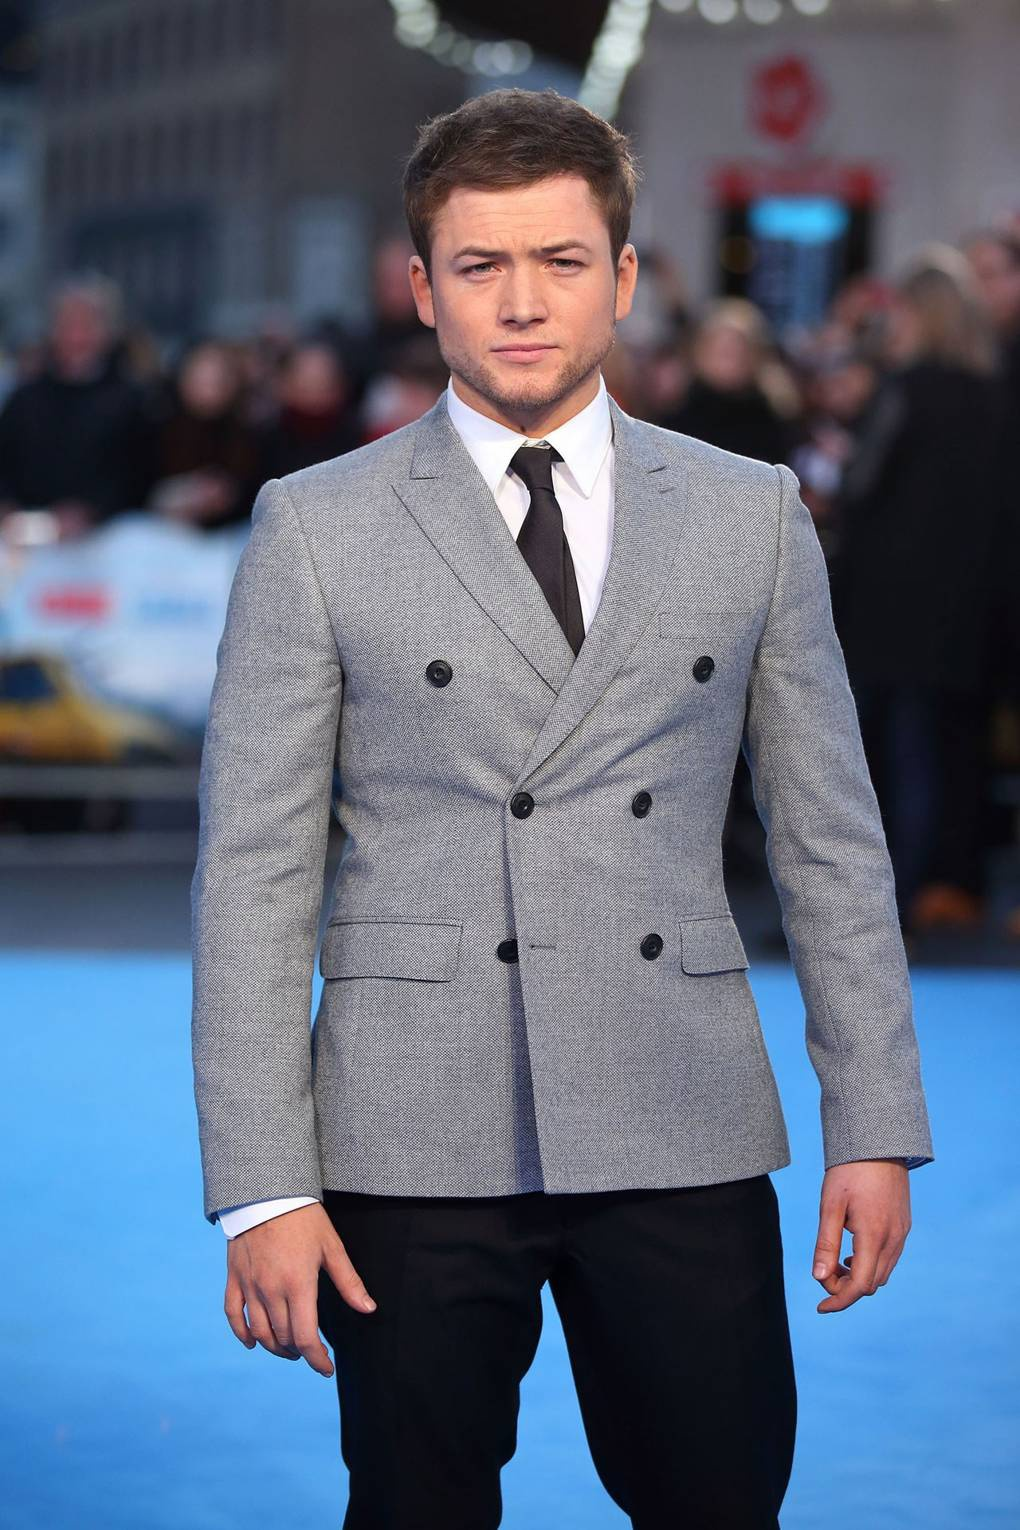bad: (428, 222, 612, 408)
